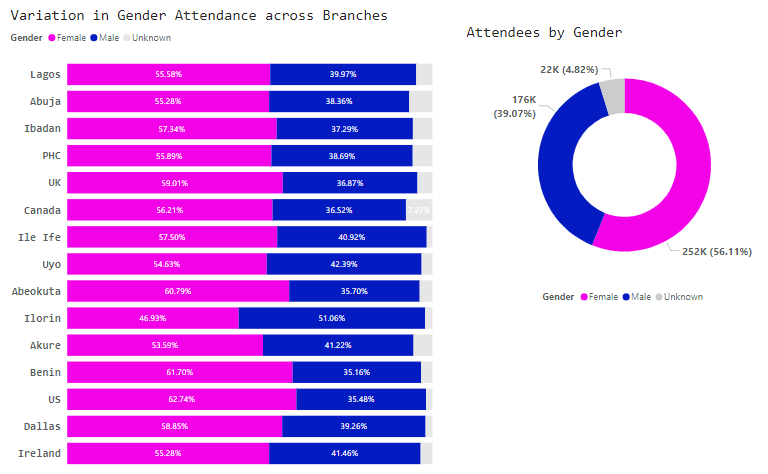

This screenshot's page, from the dashboard's own definition file:
{"tool":"powerbi","page":{"name":"Gender","canvas":[1280,720],"ordinal":1},"visuals":[{"type":"hundredPercentStackedBarChart","title":"Variation in Gender Attendance across Branches","fields":{"Category":["Faith Global Data.Branch"],"Y":["Dax Calc.Total Attendees"],"Series":["Faith Global Data.Gender"]},"box":[65.7,34.3,638.6,658.6],"z":0},{"type":"donutChart","title":"Attendees by Gender","fields":{"Y":["Dax Calc.Total Attendees"],"Category":["Faith Global Data.Gender"]},"box":[717.1,58.6,461.4,410],"z":1000}]}

Visuals, with their boxes on the page's 1280x720 design canvas (x1, y1, x2, y2). These are canvas units, not pixel positions in the 768x474 screenshot, which may show the page scaled, cropped or inside an application window:
"Variation in Gender Attendance across Branches" hundredPercentStackedBarChart: bbox=(66, 34, 704, 693)
"Attendees by Gender" donutChart: bbox=(717, 59, 1178, 469)
